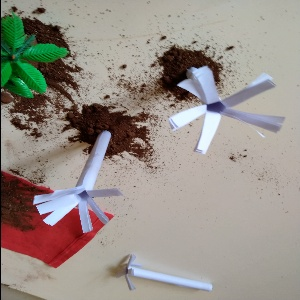plant: (1, 13, 67, 104)
weed: (155, 55, 280, 160), (32, 127, 119, 234), (121, 248, 229, 297)
